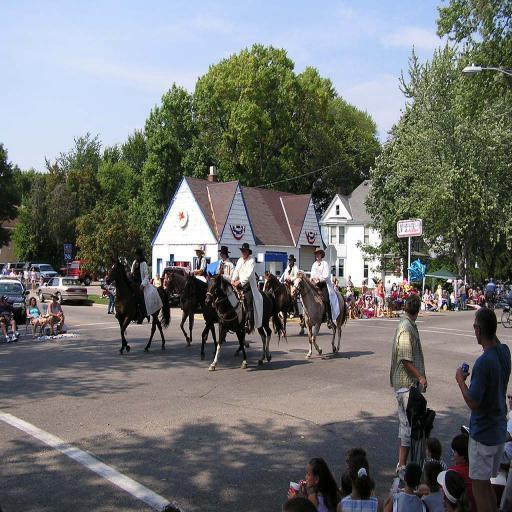horse: (206, 269, 289, 373), (105, 255, 172, 356), (178, 269, 250, 361), (288, 268, 348, 358), (162, 266, 206, 347), (262, 268, 306, 336)
